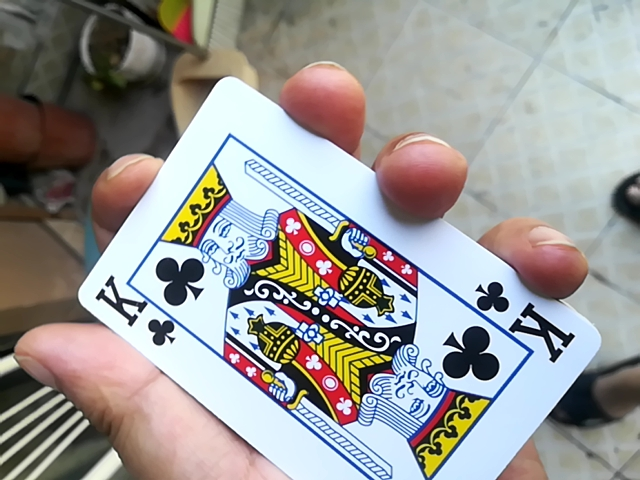mh k: (67, 80, 592, 480)
